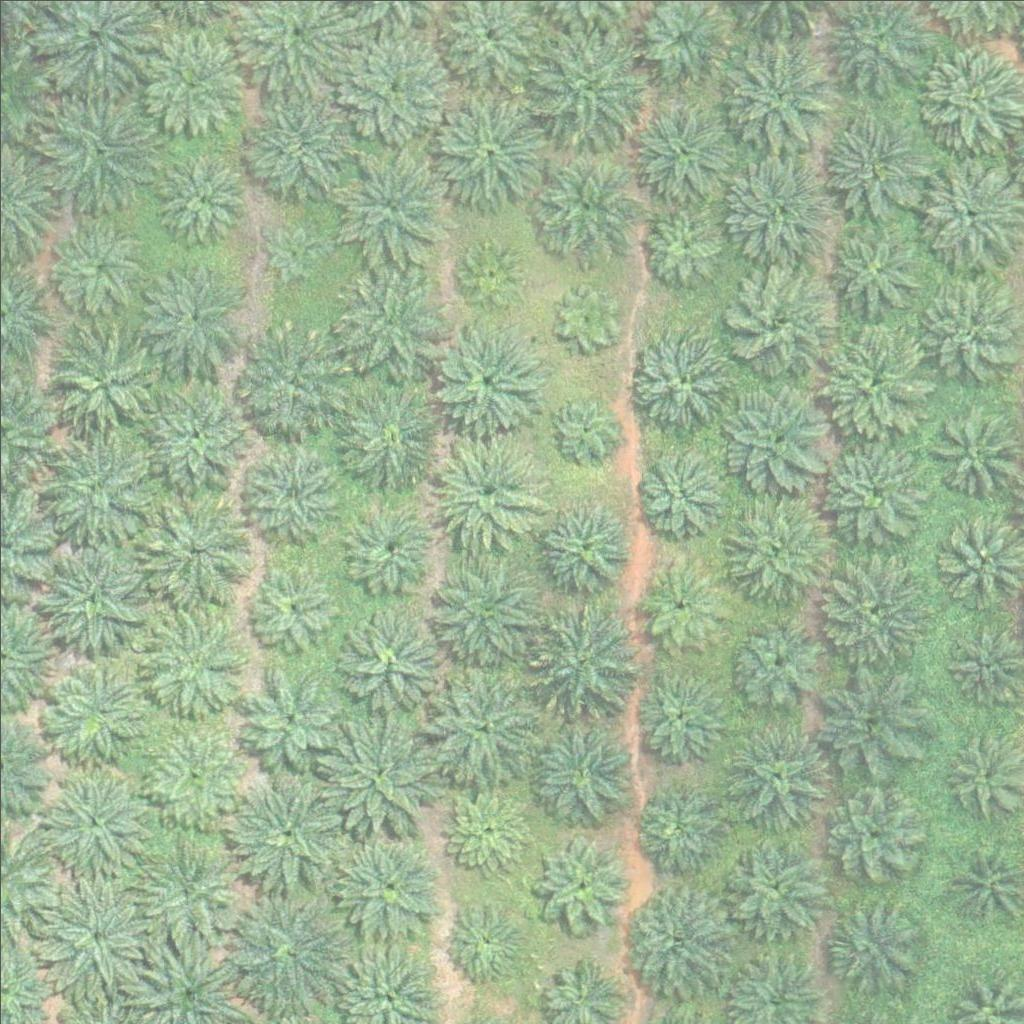Kelapa_Sawit: (718, 829, 831, 943), (618, 883, 731, 997), (521, 713, 634, 827), (529, 600, 642, 714), (41, 98, 154, 212), (135, 254, 248, 368), (812, 549, 925, 662), (817, 430, 930, 543), (523, 492, 636, 605), (431, 430, 544, 543), (331, 825, 444, 938), (228, 892, 341, 1005), (230, 774, 343, 887), (134, 602, 247, 715), (142, 493, 255, 606), (37, 425, 150, 538), (46, 326, 159, 439), (137, 374, 250, 487), (338, 153, 451, 266), (334, 30, 447, 143), (429, 319, 542, 432), (432, 93, 545, 206), (724, 264, 837, 377), (720, 151, 833, 264), (719, 36, 832, 149), (819, 326, 932, 439), (817, 206, 930, 319), (424, 668, 536, 782), (427, 556, 539, 670), (330, 488, 442, 602), (236, 319, 348, 433), (333, 376, 445, 490), (813, 670, 925, 783), (720, 723, 832, 836), (723, 492, 835, 605), (323, 719, 435, 832), (329, 606, 441, 719), (130, 832, 242, 945), (41, 873, 153, 986), (40, 762, 152, 875), (35, 538, 147, 651), (135, 22, 247, 135), (241, 88, 353, 201), (330, 264, 442, 377), (529, 147, 641, 260), (530, 25, 642, 138), (621, 320, 733, 433), (627, 89, 739, 202), (721, 379, 833, 492), (817, 104, 929, 217), (911, 272, 1023, 385), (823, 786, 923, 887), (726, 615, 826, 716), (242, 669, 342, 770), (146, 723, 246, 824), (46, 663, 146, 764), (815, 900, 915, 1000), (629, 778, 729, 878), (629, 664, 729, 764), (532, 832, 632, 932), (239, 441, 339, 541), (49, 218, 149, 318), (151, 149, 251, 249), (636, 444, 724, 532), (439, 899, 527, 987), (442, 785, 530, 873), (639, 204, 727, 292), (637, 560, 724, 648), (246, 563, 333, 651), (458, 242, 521, 305), (550, 396, 613, 459), (555, 285, 618, 348), (262, 222, 324, 285)
